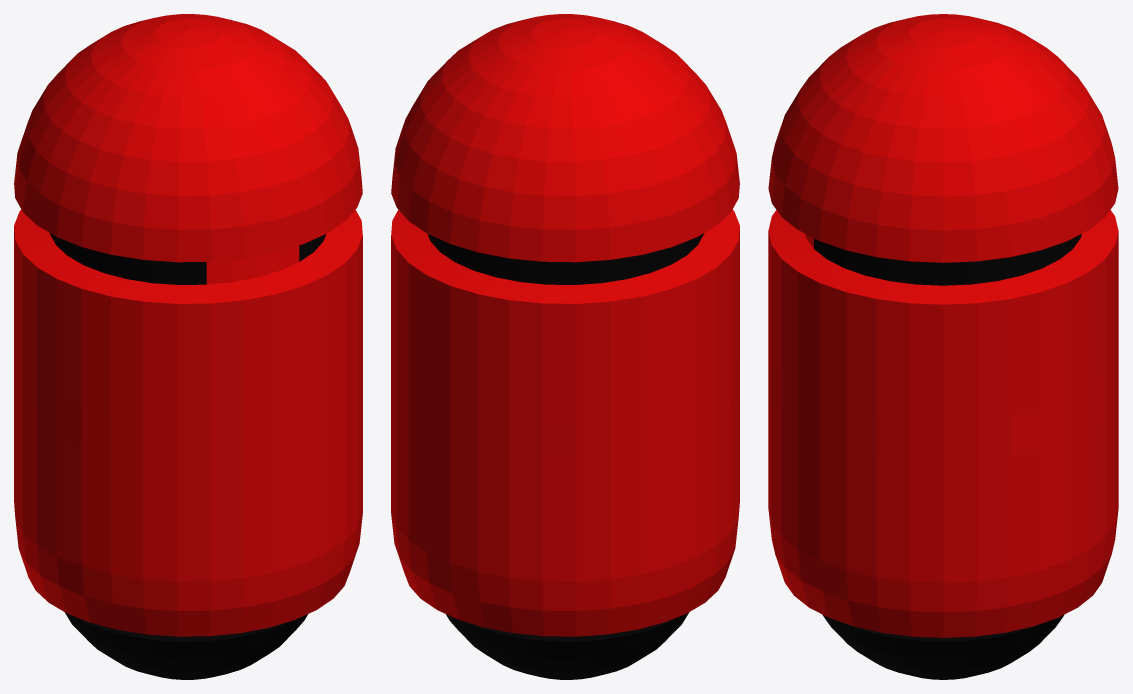
The model's file is MeleeT1.glb.
3 renders of one model, left to right at view 1: azimuth 30°, elevation 25°; view 2: azimuth 150°, elevation 25°; view 3: azimuth 270°, elevation 25°, orthographic.
Visible parts, largest first — view 1: Body; view 2: Body; view 3: Body.
Part boxes in pixels (x1,y1,x2,y2): Body: [14, 14, 362, 679]; Body: [391, 14, 739, 679]; Body: [768, 14, 1118, 679].
Size of the model in its own units: 1 by 2.01 by 1.
